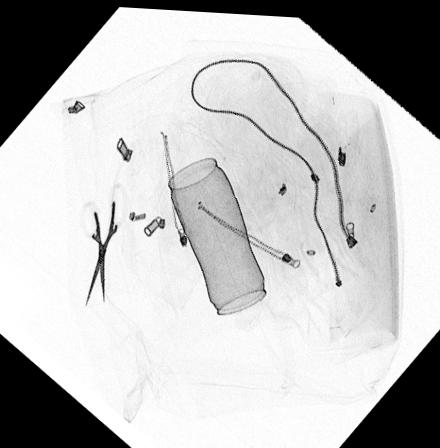Scissors: (78, 176, 124, 312)
